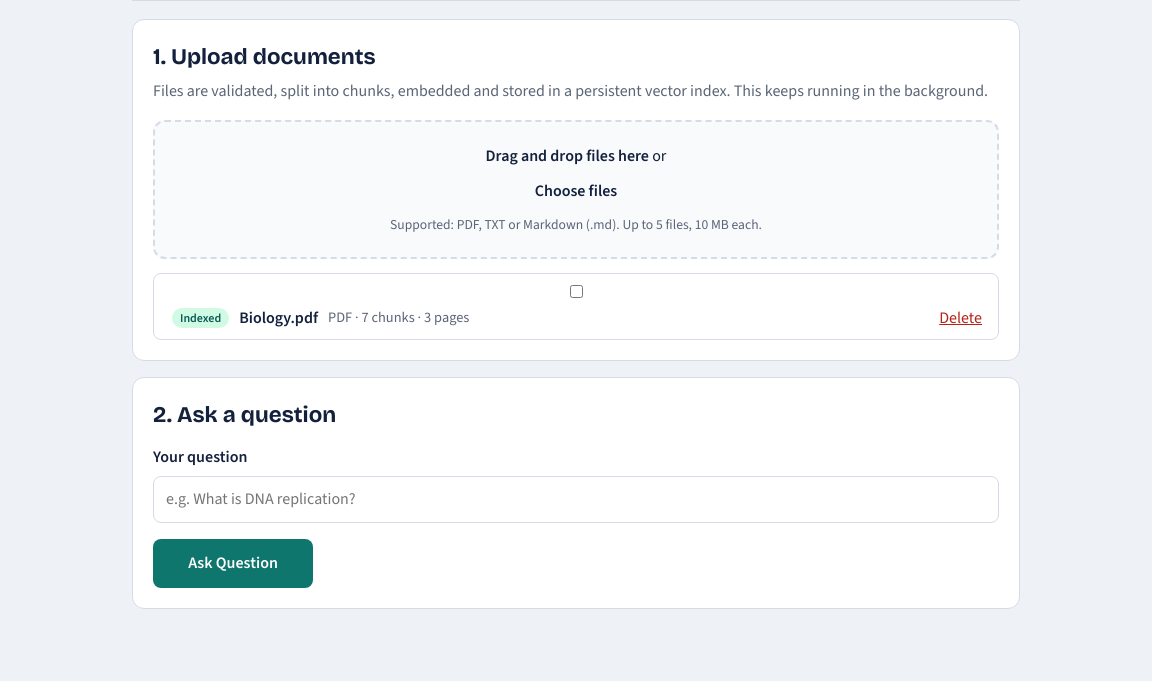
Test: Document Q&A (advanced) › shows a clear no-evidence state without citations
(page scrolled)
Expected: the text "Biology.pdf" is shown, [239,306,318,330]
In the field labelled "Your question": [576, 499] box [153,476,999,523], type "Who won the world cup?"
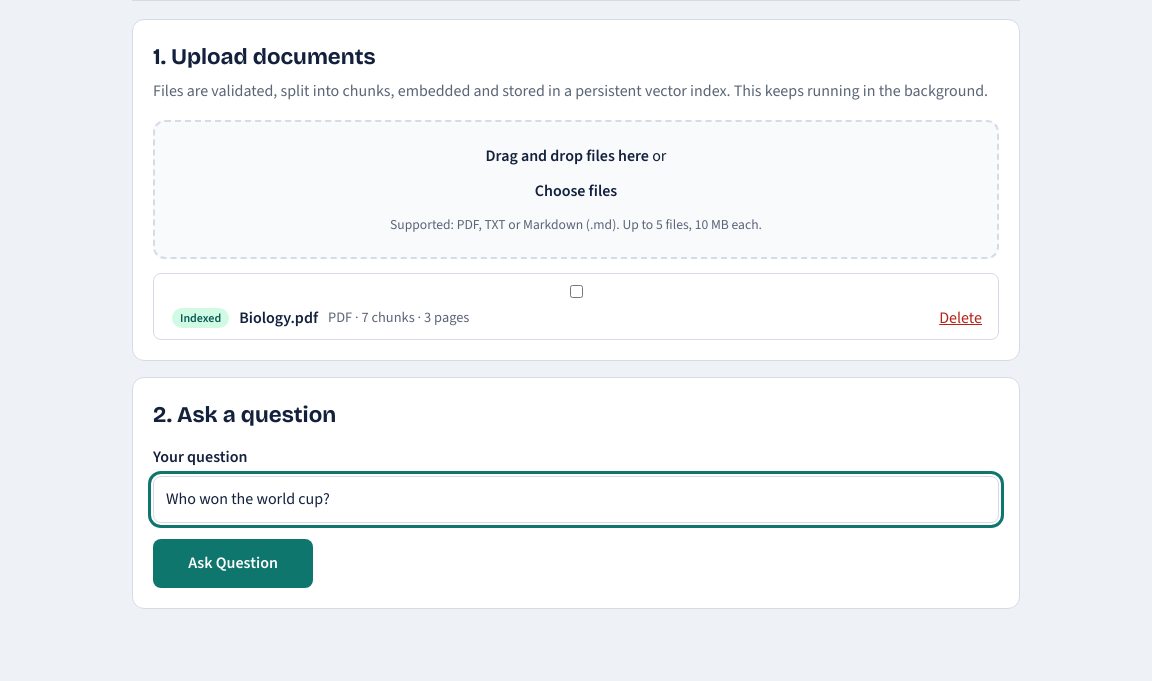
Click the button "Ask Question": [233, 563] box [153,539,313,588]
(page scrolled)
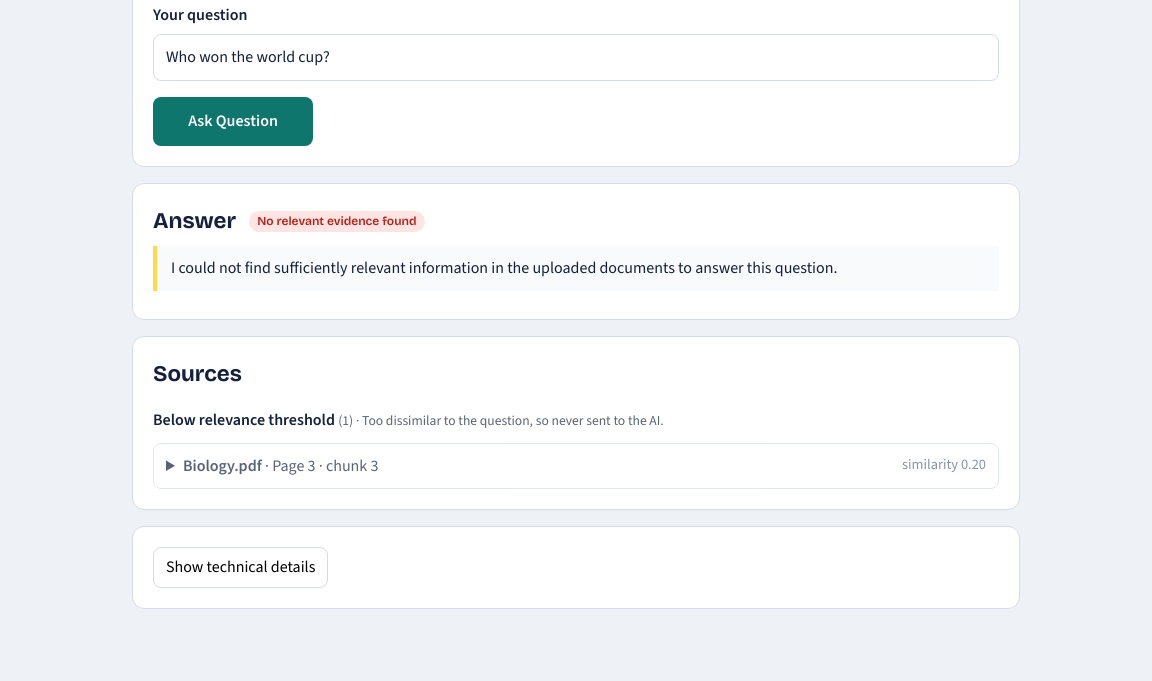
Result: the text "No relevant evidence found" is shown at [249,211,424,232]
Result: the text "could not find sufficiently relevant" is shown at [171,257,837,278]
Result: the heading "Below relevance threshold" is shown at [153,409,335,430]
